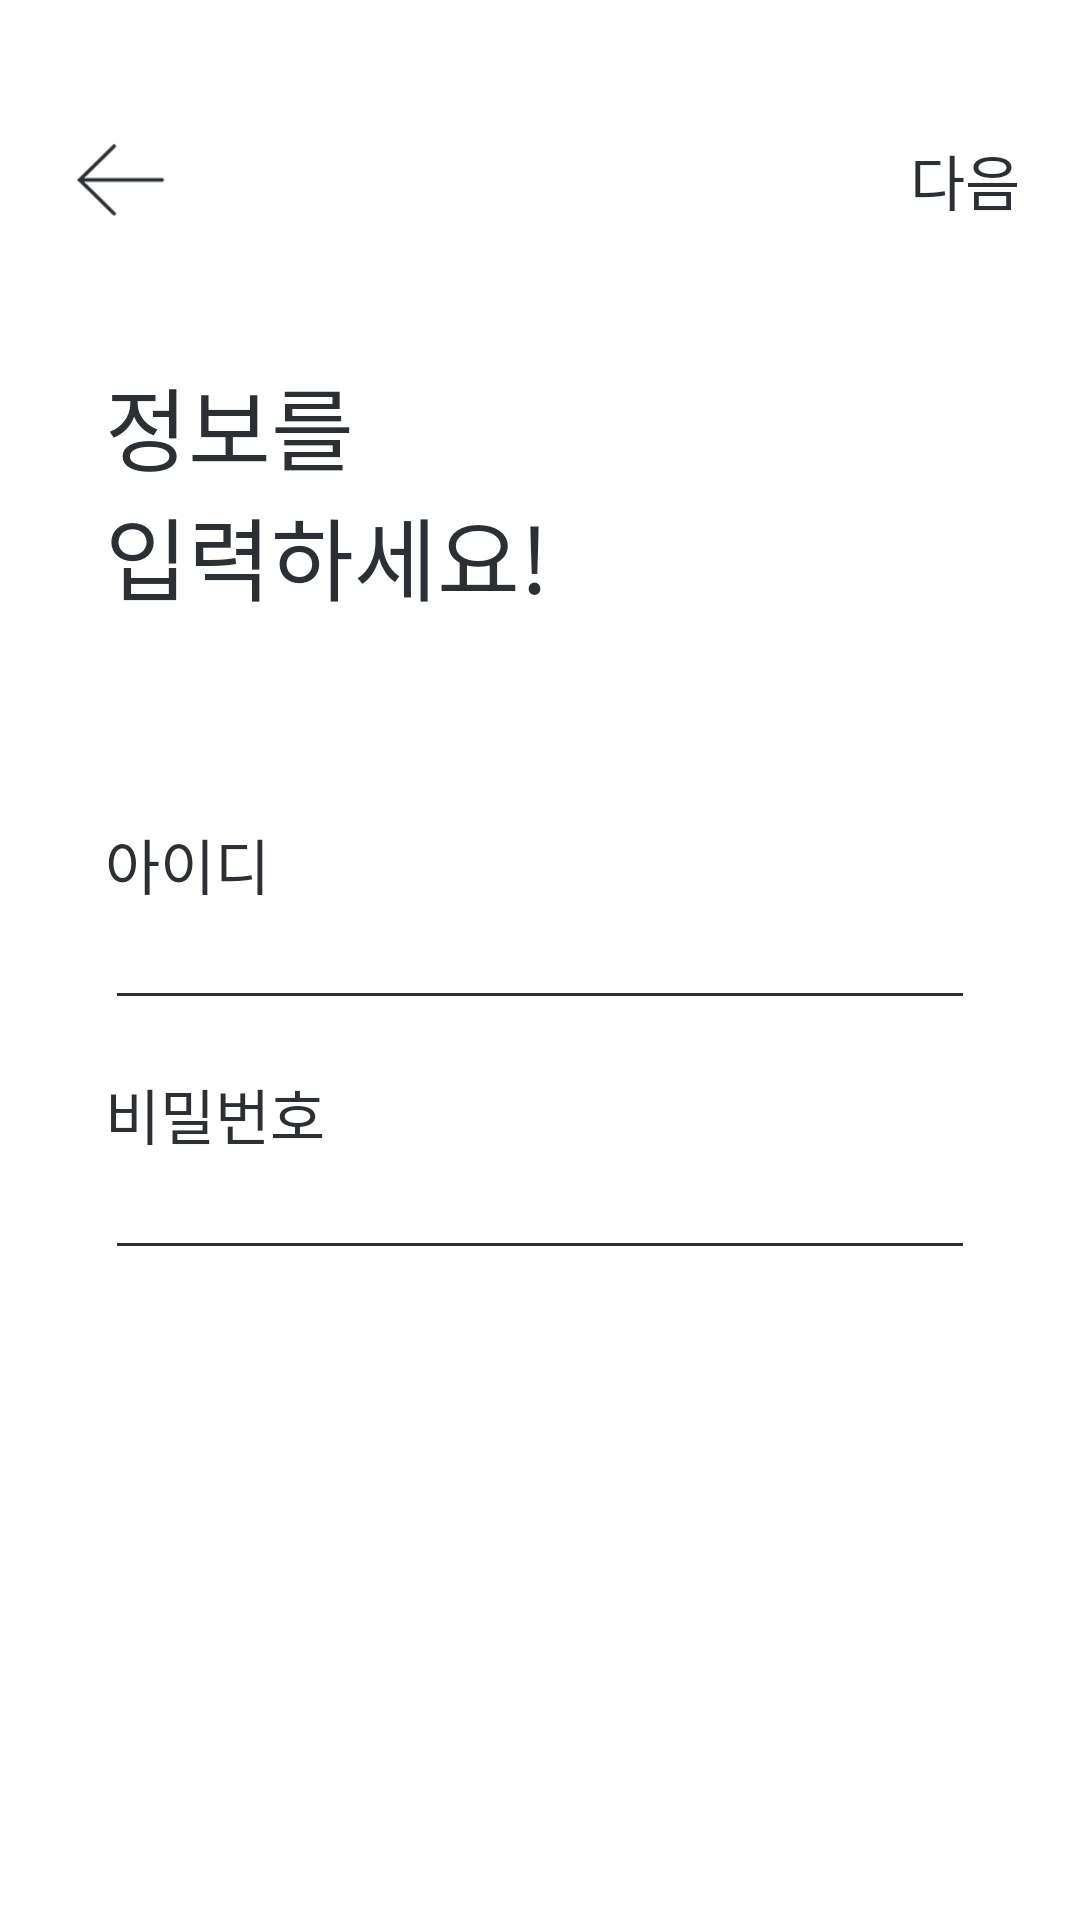

Where icons sit on this 1080 x 1920 app screen, as (x1, y1, x2, y2):
back arrow: (77, 144, 165, 216)
